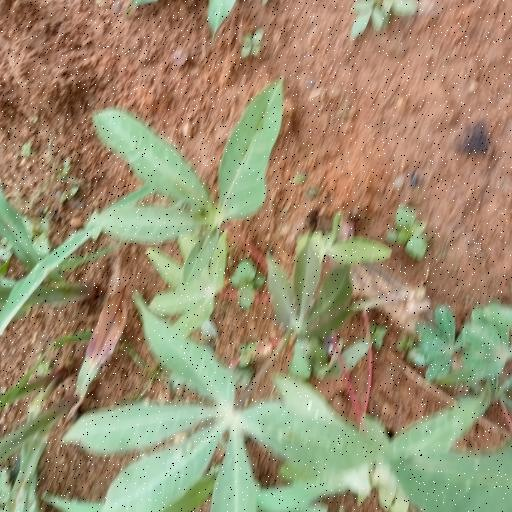Cassava_Mosaic: (94, 314, 371, 512)
